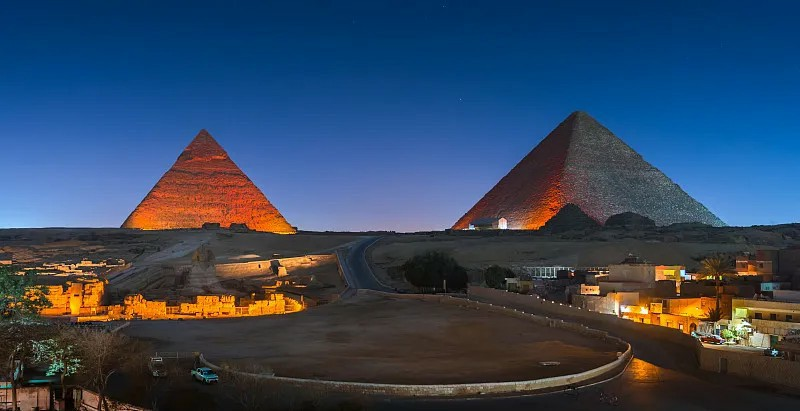Pyramid: (452, 111, 733, 228), (119, 129, 295, 233)
